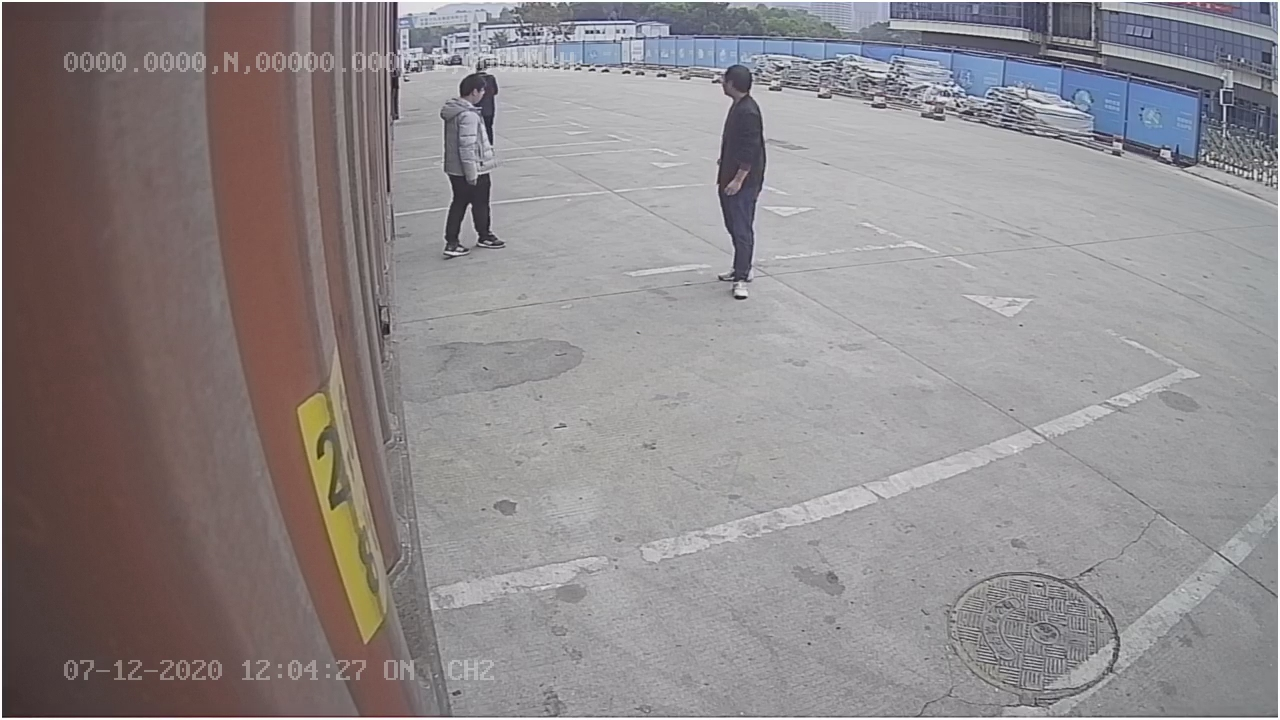person: (710, 64, 769, 299)
